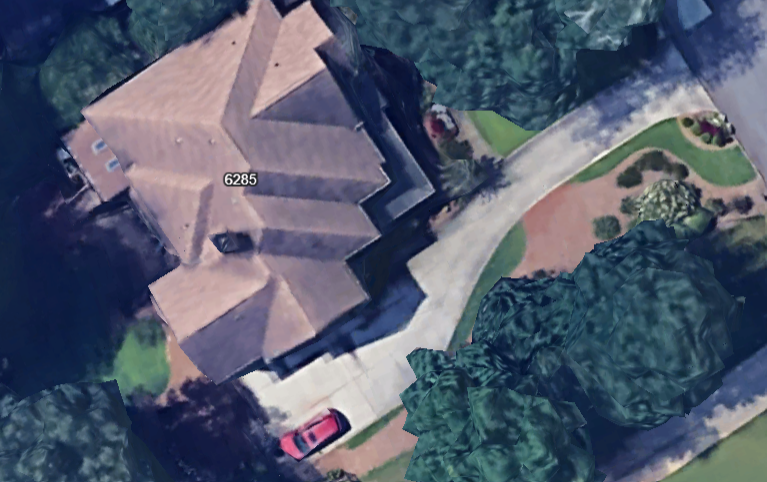driveway: (241, 10, 719, 468)
